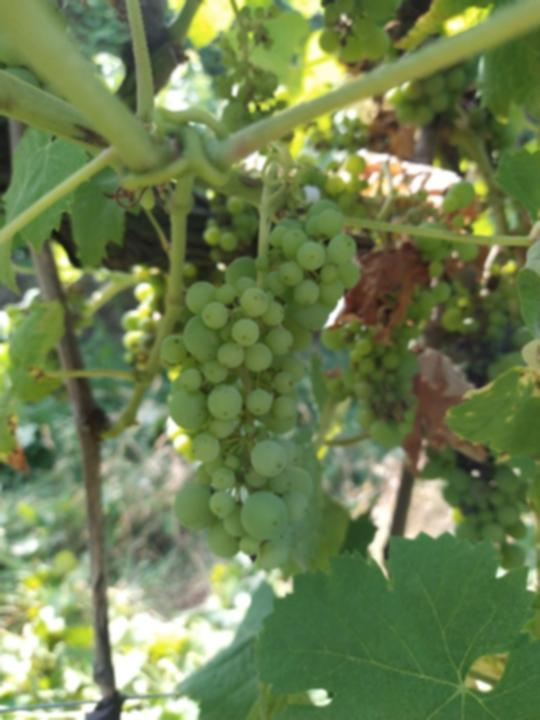grape: (158, 201, 364, 575)
